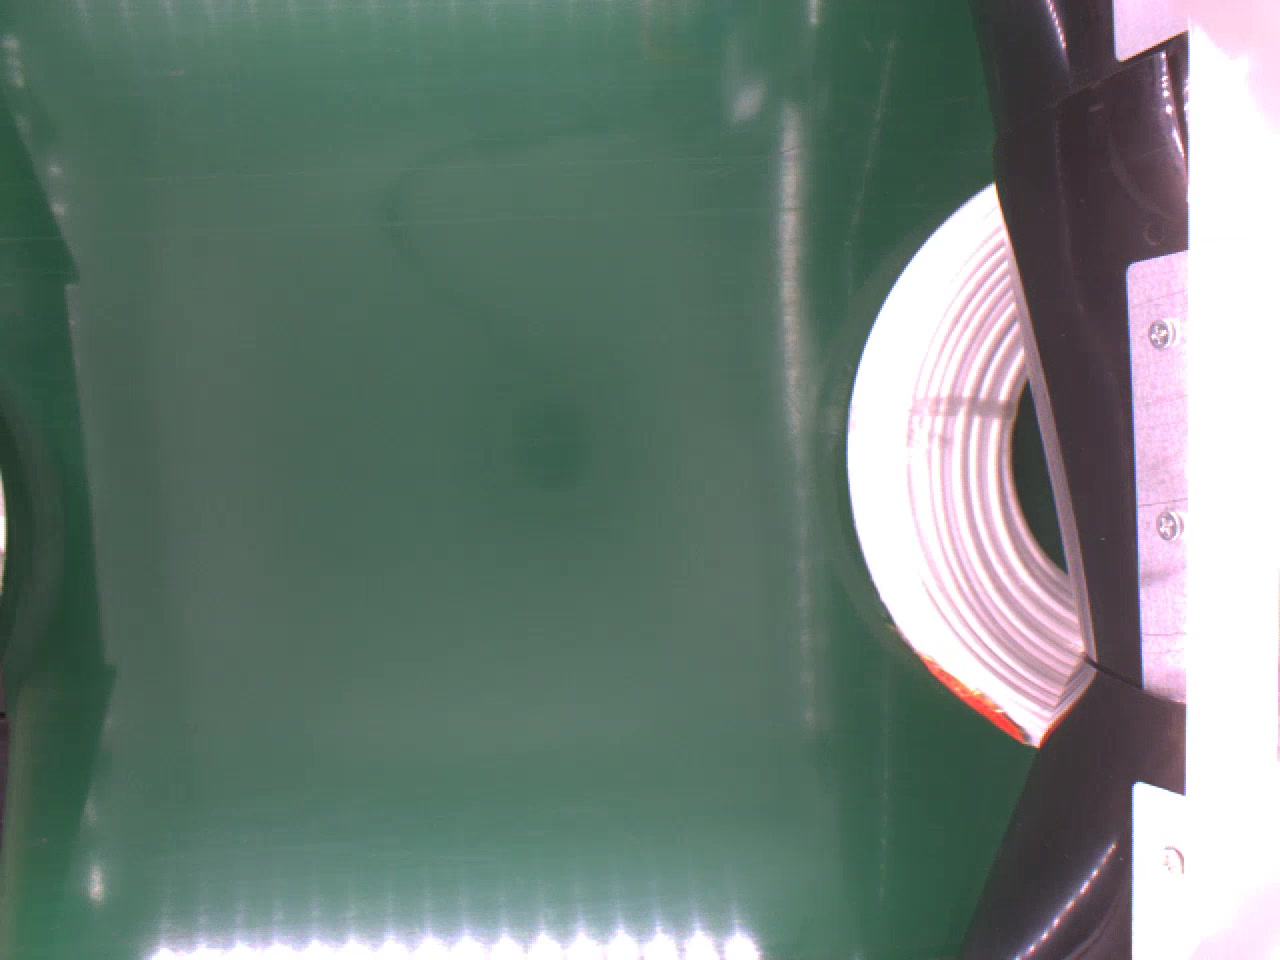white: (842, 176, 1089, 745)
